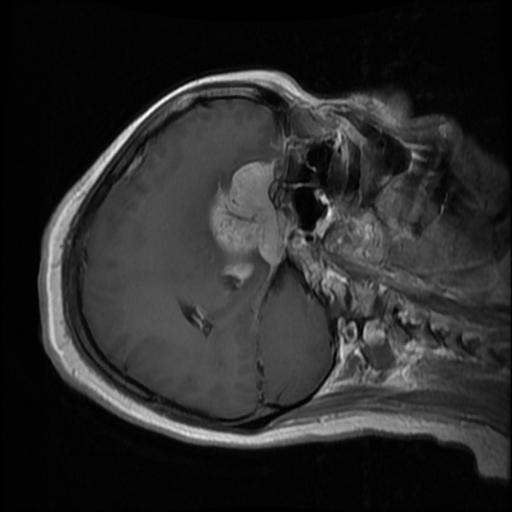meningioma: (209, 160, 283, 269)
